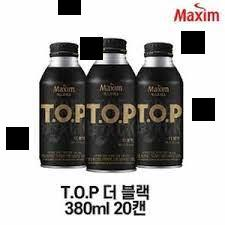TOP_black: (135, 41, 191, 171), (86, 35, 138, 173), (35, 41, 88, 170)
